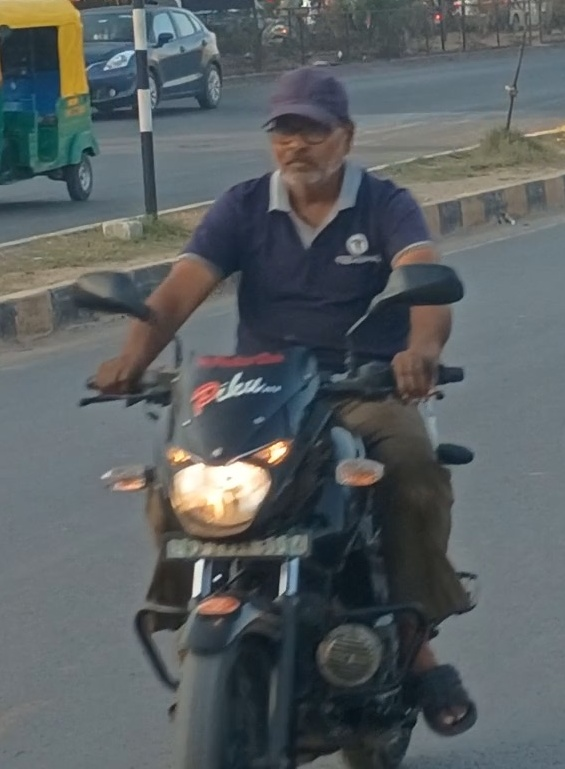BikeWithRider: (59, 59, 494, 767)
NoHelmet: (249, 61, 368, 194)
